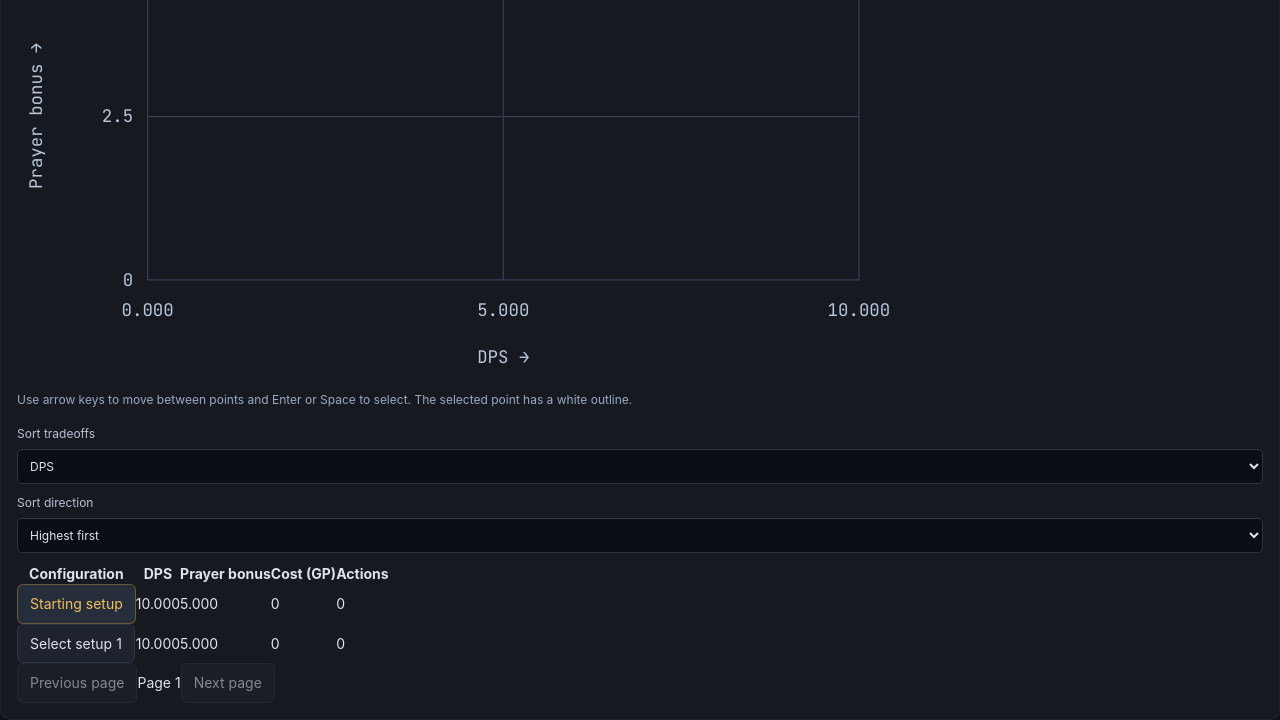
reports failed detail requests without selecting a different configuration
(page scrolled)
Check: the button "Next page" is disabled, box [181,663,275,703]
Click the button "Select setup 1": click(76, 644) [17,624,135,663]
(page scrolled)
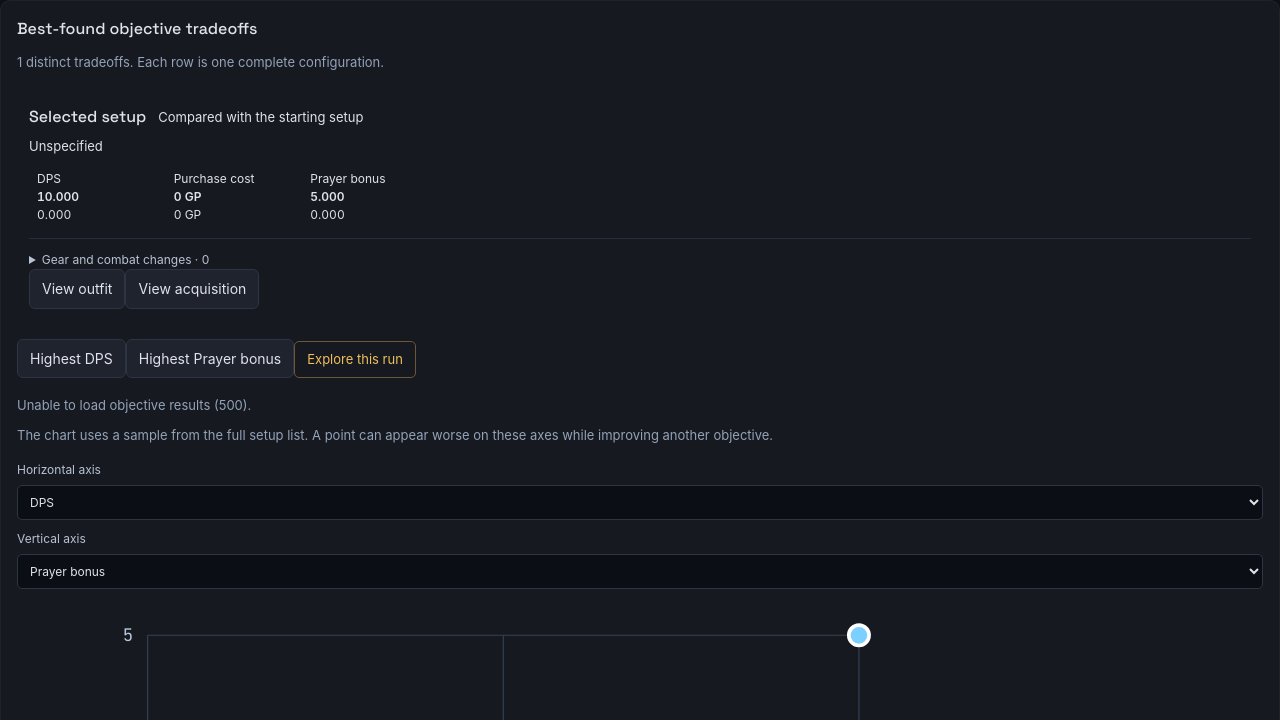
Check: the message shows "Unable to load", box [17,397,251,413]
